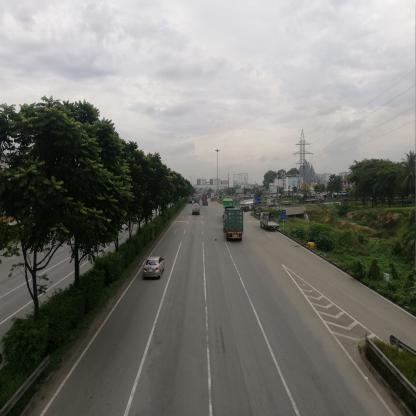car: (144, 259, 166, 282), (285, 201, 291, 207)
container: (225, 209, 245, 243), (299, 197, 324, 203), (202, 196, 209, 207)
truck: (262, 215, 281, 231), (242, 201, 257, 212), (193, 206, 201, 218), (270, 201, 280, 206)
